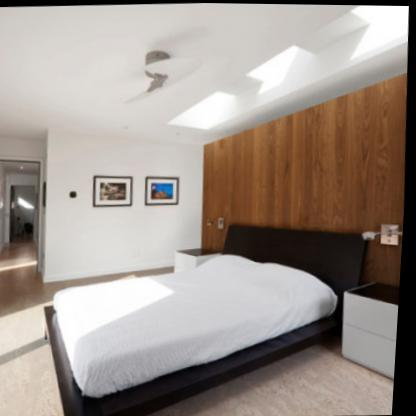Bed: (48, 225, 367, 416)
Wall Panel: (207, 72, 408, 287)
